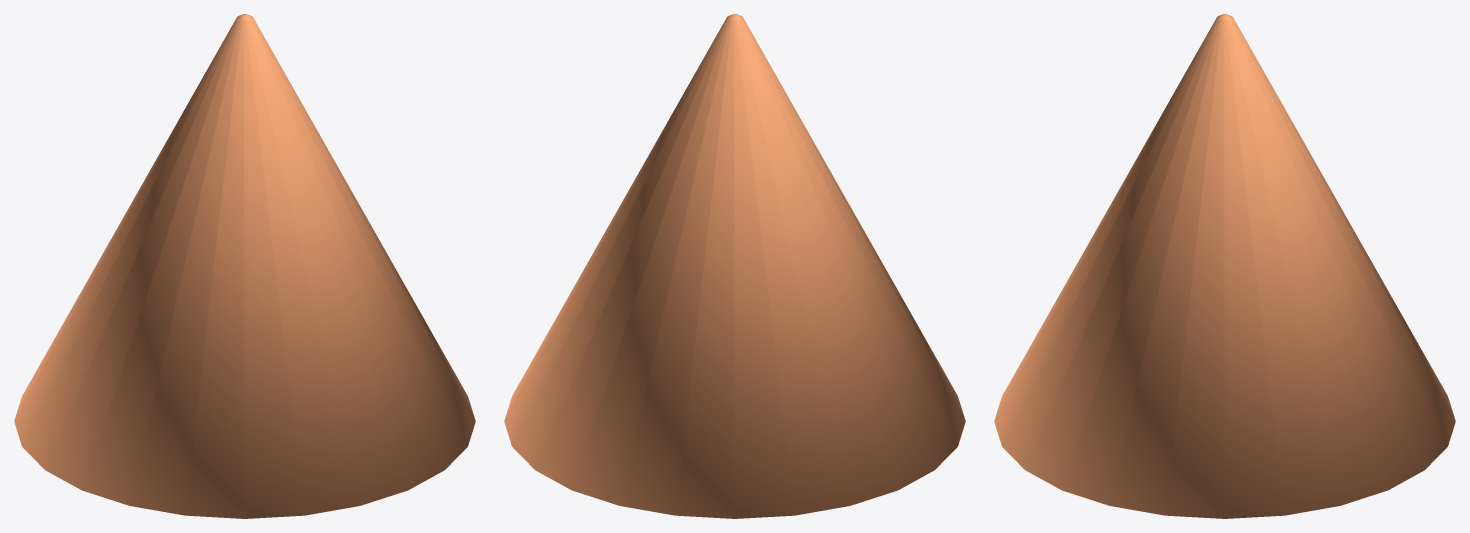
Rendered from ConeBig_2.fbx.
3 renders of one model, left to right at view 1: azimuth 30°, elevation 25°; view 2: azimuth 150°, elevation 25°; view 3: azimuth 270°, elevation 25°, orthographic.
Parts seen in each view (by area): view 1: Cone.003; view 2: Cone.003; view 3: Cone.003.
Part boxes in pixels (x1,y1,x2,y2): Cone.003: [14, 14, 475, 518]; Cone.003: [504, 14, 965, 518]; Cone.003: [994, 14, 1455, 518].
Bounding box in the file's own units: 400 × 389 × 400.
